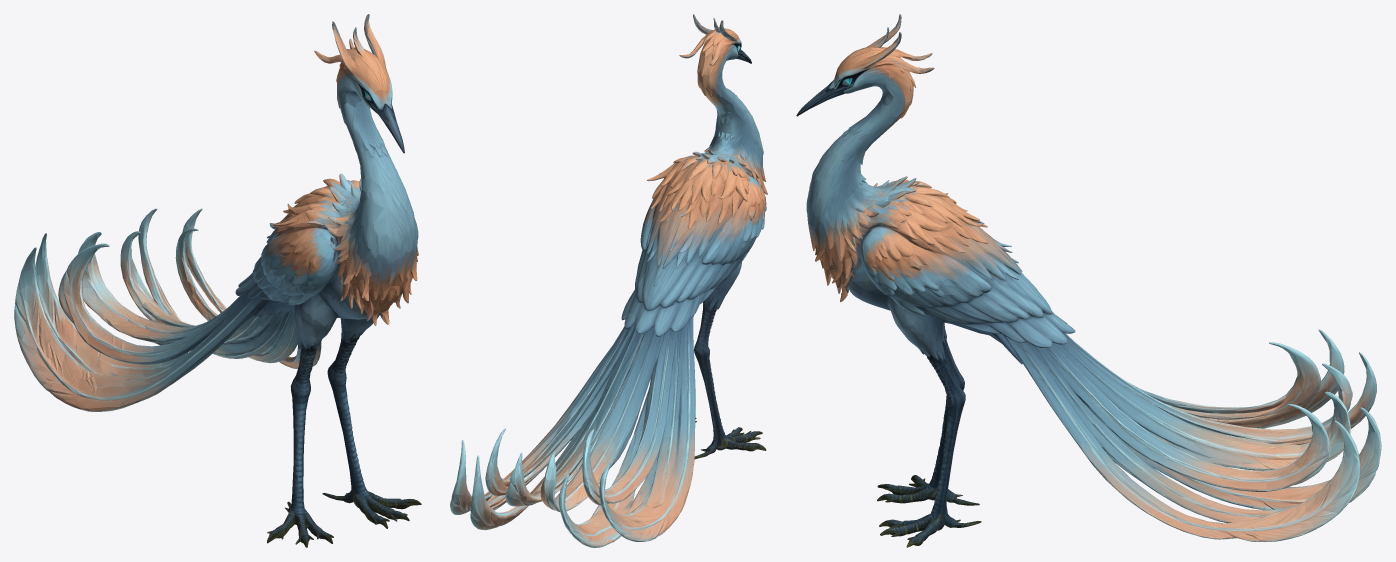
File: aeriex_a.glb
The picture shows the model from 3 angles, left to right: view 1: azimuth 30°, elevation 25°; view 2: azimuth 150°, elevation 25°; view 3: azimuth 270°, elevation 25°; orthographic projection. The views are drawn at different scales.
Parts seen in each view (by area): view 1: Mesh_0; view 2: Mesh_0; view 3: Mesh_0.
Part boxes in pixels (box(x1,y1,x2,y2)): Mesh_0: box(14, 14, 421, 547); Mesh_0: box(450, 14, 767, 547); Mesh_0: box(796, 14, 1381, 547).
Bounding box in the file's own units: 0.8002 × 1.77 × 1.9.
Materials: 1 (1 with a texture image).
